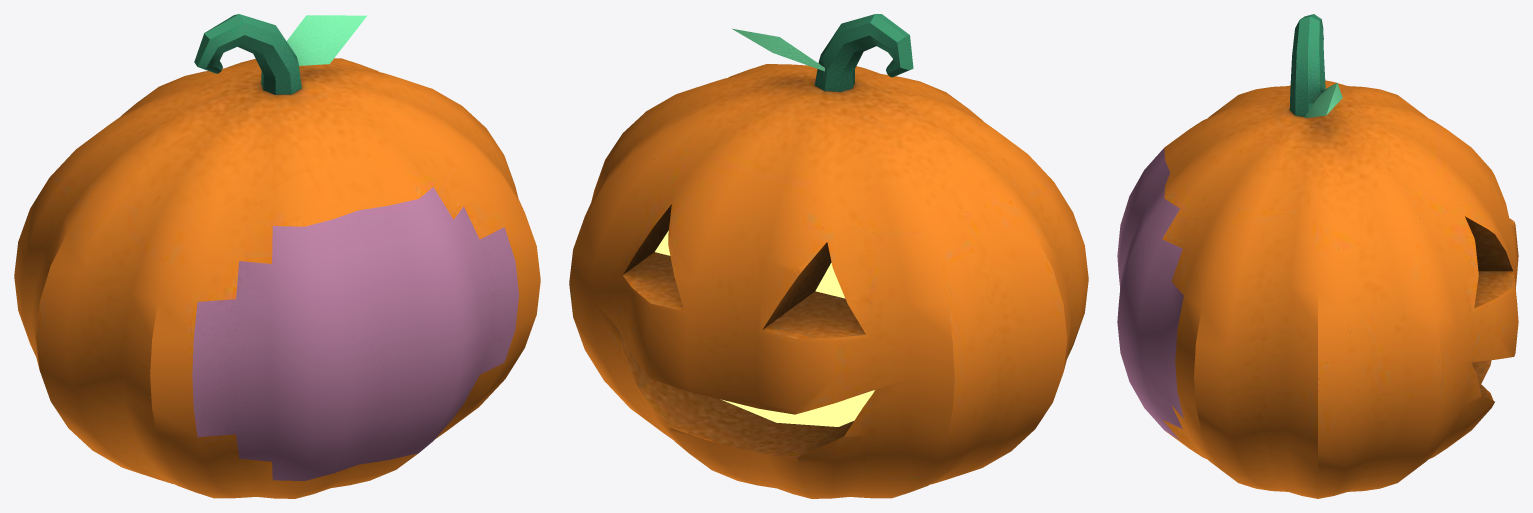
3 renders of one model, left to right at view 1: azimuth 30°, elevation 25°; view 2: azimuth 150°, elevation 25°; view 3: azimuth 270°, elevation 25°, orthographic. The views are drawn at different scales.
Parts seen in each view (by area): view 1: Pumpkin_candy_lacquer, Soft_purple_back_tint, Curly_mint_green_stem, Fresh_mint_leaf; view 2: Pumpkin_candy_lacquer, Curly_mint_green_stem, glow_Warm_carved_openings, Fresh_mint_leaf; view 3: Pumpkin_candy_lacquer, Soft_purple_back_tint, Curly_mint_green_stem, Fresh_mint_leaf.
Boxes of the visible parts, x1=… form: Pumpkin_candy_lacquer: x1=14, y1=58, x2=540, y2=498; Soft_purple_back_tint: x1=192, y1=187, x2=518, y2=480; Curly_mint_green_stem: x1=194, y1=14, x2=301, y2=94; Fresh_mint_leaf: x1=286, y1=15, x2=366, y2=65; Pumpkin_candy_lacquer: x1=569, y1=64, x2=1088, y2=498; Curly_mint_green_stem: x1=814, y1=14, x2=913, y2=92; glow_Warm_carved_openings: x1=655, y1=230, x2=874, y2=426; Fresh_mint_leaf: x1=732, y1=28, x2=824, y2=71; Pumpkin_candy_lacquer: x1=1162, y1=80, x2=1518, y2=498; Soft_purple_back_tint: x1=1117, y1=148, x2=1183, y2=439; Curly_mint_green_stem: x1=1289, y1=14, x2=1325, y2=116; Fresh_mint_leaf: x1=1304, y1=83, x2=1342, y2=118.
Size of the model in its own units: 1 by 0.9415 by 0.7889.
5 materials, 4 textured.
